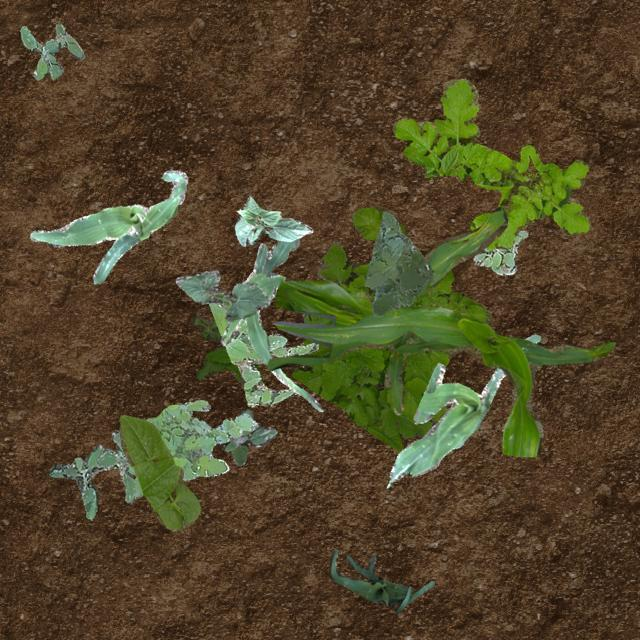crop: (266, 206, 614, 457), (388, 334, 540, 481), (28, 168, 186, 282), (219, 238, 321, 410), (119, 414, 200, 530), (328, 548, 434, 612), (174, 268, 268, 320), (234, 194, 312, 246)
weed: (290, 206, 492, 450), (392, 78, 590, 248), (126, 398, 256, 498), (208, 300, 318, 406), (48, 429, 134, 518), (364, 210, 434, 316), (192, 316, 260, 386), (18, 22, 84, 78), (220, 408, 276, 466), (472, 228, 526, 274)
